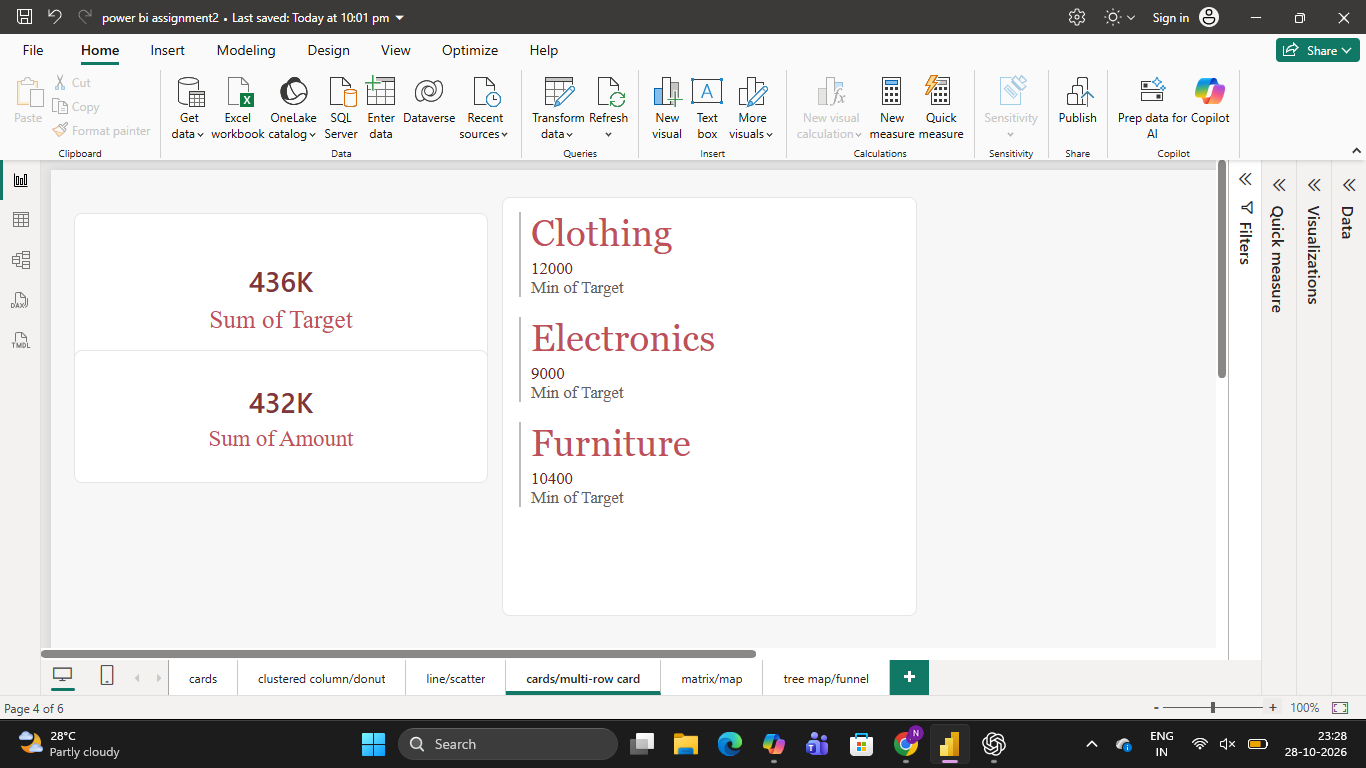

The page's visual inventory and layout, read from the dashboard file:
{"tool":"powerbi","page":{"name":"cards/multi-row card","canvas":[1920,1080],"ordinal":3},"visuals":[{"type":"card","fields":{"Values":["Sum(Sales target (1).Target)"]},"box":[22.9,42.9,414.3,167.1],"z":1},{"type":"card","fields":{"Values":["Sum(Order Details (1).Amount)"]},"box":[22.9,180,414.3,132.9],"z":2},{"type":"multiRowCard","fields":{"Values":["Order Details (1).Category","Min(Sales target (1).Target)"]},"box":[451.4,27.1,414.3,418.6],"z":3}]}

Visuals, with their boxes on the page's 1920x1080 design canvas (x1, y1, x2, y2). These are canvas units, not pixel positions in the 1366x768 screenshot, which may show the page scaled, cropped or inside an application window:
card - Sum(Sales target (1).Target): bbox(23, 43, 437, 210)
card - Sum(Order Details (1).Amount): bbox(23, 180, 437, 313)
multiRowCard - Order Details (1).Category x Min(Sales target (1).Target): bbox(451, 27, 866, 446)
